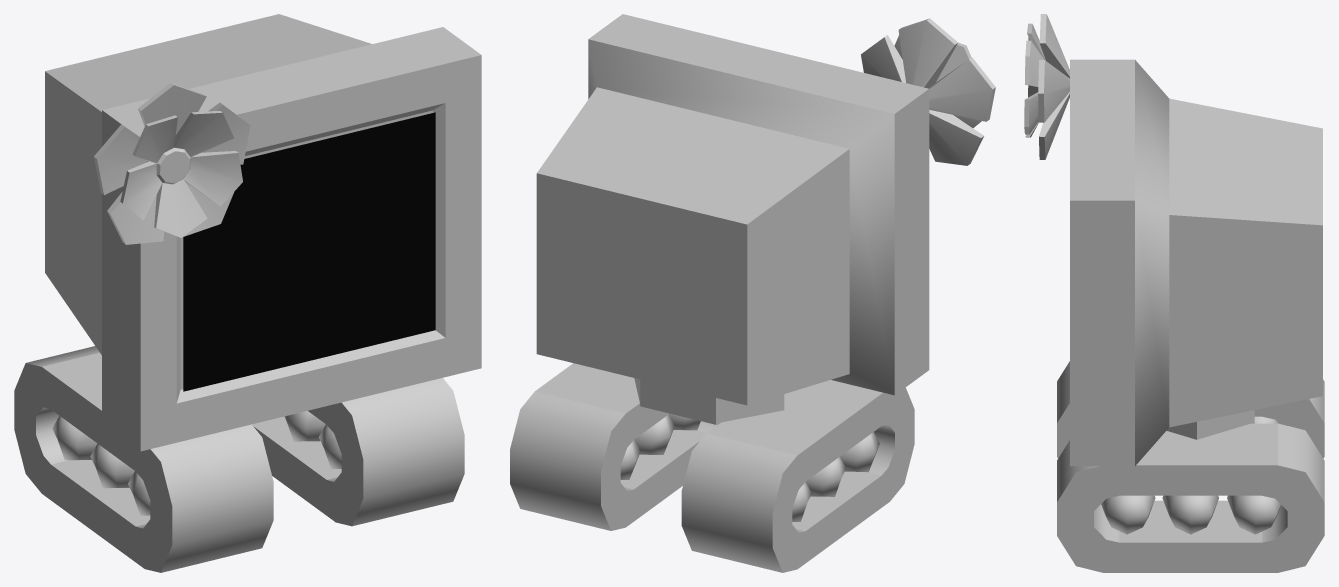
The model's file is computer_obj.fbx.
The picture shows the model from 3 angles, left to right: view 1: azimuth 30°, elevation 25°; view 2: azimuth 150°, elevation 25°; view 3: azimuth 270°, elevation 25°; orthographic projection. The views are drawn at different scales.
Visible parts, largest first — view 1: polySurface73; view 2: polySurface73; view 3: polySurface73.
Part boxes in pixels (x1,y1,x2,y2): polySurface73: (14, 14, 481, 572); polySurface73: (510, 14, 995, 572); polySurface73: (1024, 14, 1324, 572).
Bounding box in the file's own units: 8.2 × 10.05 × 6.29.
